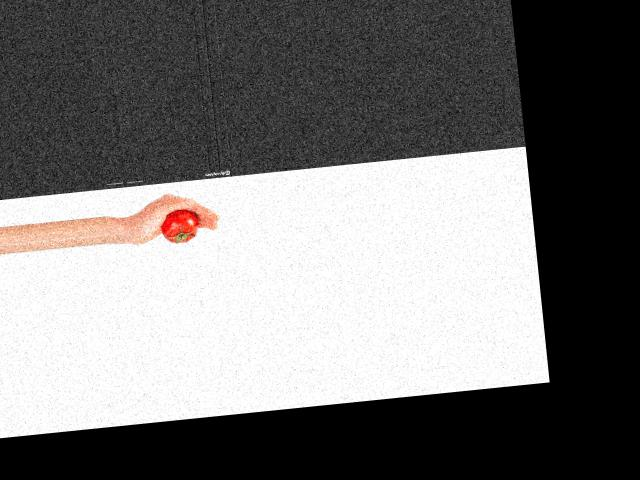tomato: (158, 208, 198, 244)
